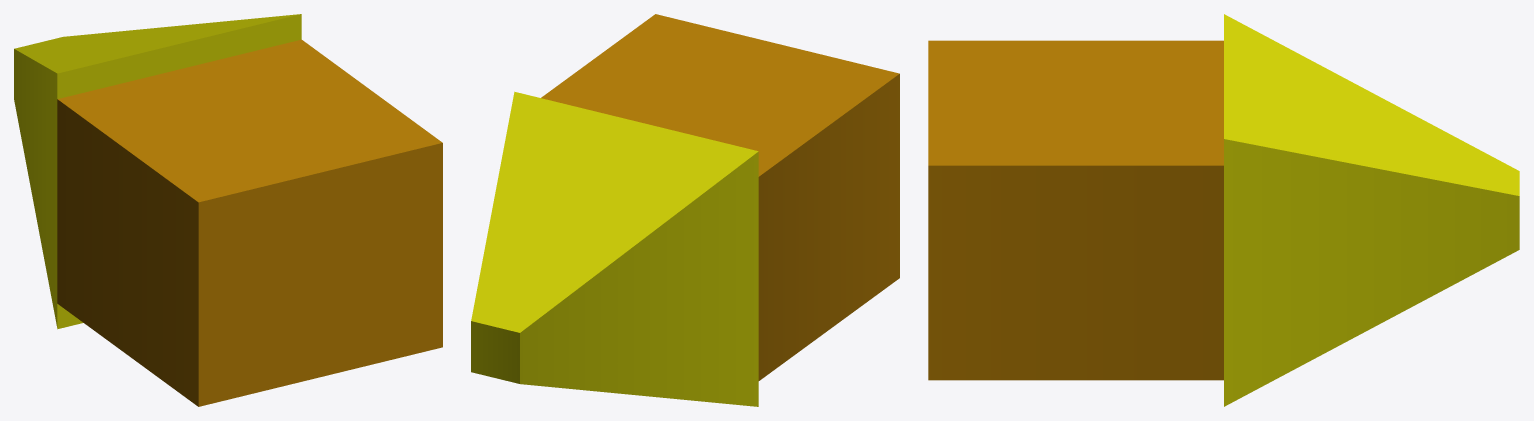
Rendered from flutter-body.glb.
3 renders of one model, left to right at view 1: azimuth 30°, elevation 25°; view 2: azimuth 150°, elevation 25°; view 3: azimuth 270°, elevation 25°, orthographic. The views are drawn at different scales.
Visible parts, largest first — view 1: mesh0; view 2: mesh0; view 3: mesh0.
Part boxes in pixels (left/top/right/bottom): mesh0: left=14, top=14, right=442, bottom=406; mesh0: left=471, top=14, right=899, bottom=406; mesh0: left=928, top=14, right=1519, bottom=406.
Size of the model in its own units: 0.2 by 0.2 by 0.4.
